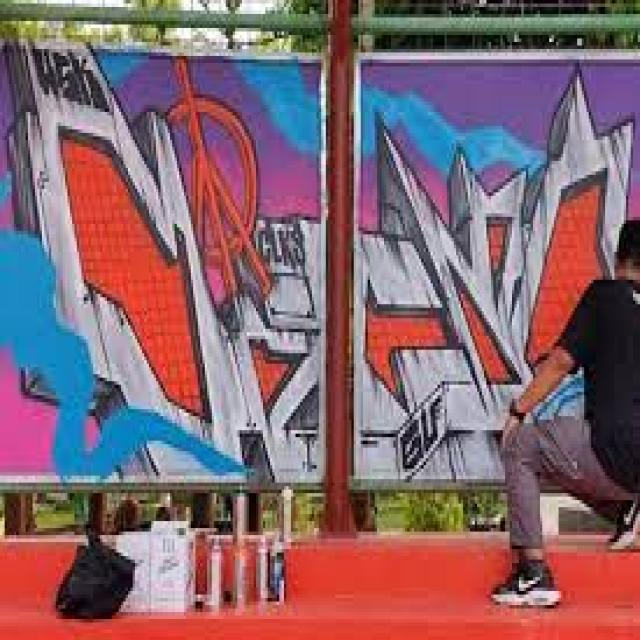-: (2, 46, 321, 476), (360, 59, 640, 478)
